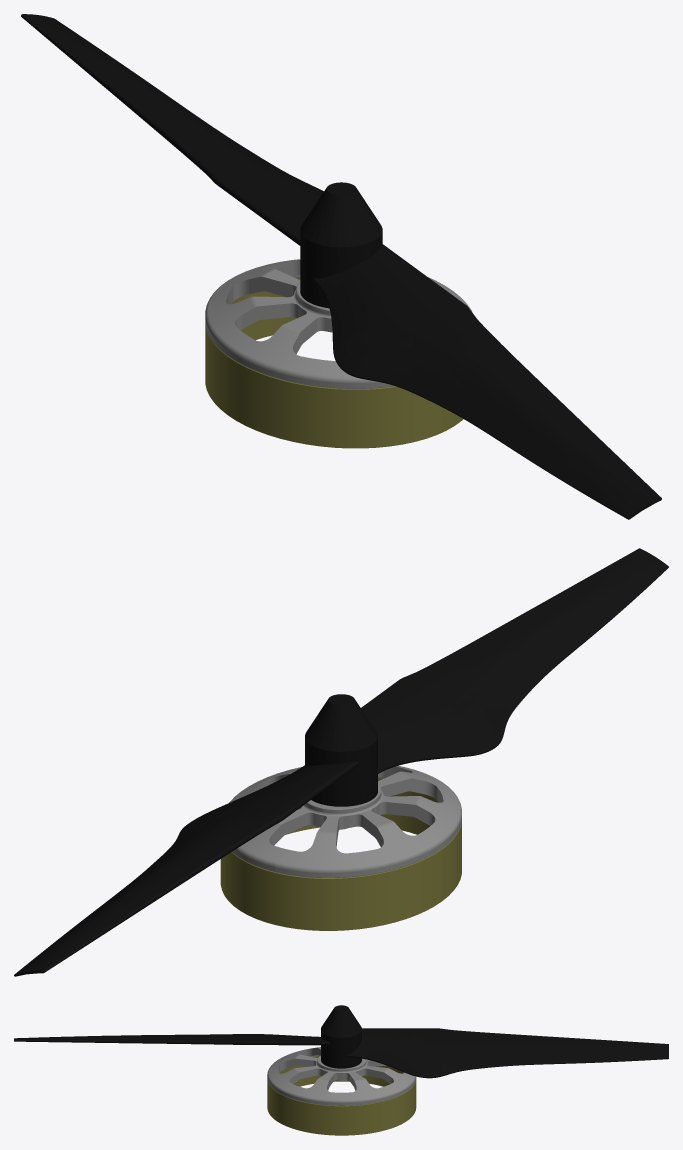
The model's file is prop_fr.dae.
3 views of the same model, one above another, from view 1: azimuth 30°, elevation 25°; view 2: azimuth 150°, elevation 25°; view 3: azimuth 270°, elevation 25° (orthographic). The views are drawn at different scales.
Parts seen in each view (by area): view 1: tmp_export_1345_prop_ccw; view 2: tmp_export_1345_prop_ccw; view 3: tmp_export_1345_prop_ccw.
Part boxes in pixels (x1,y1,x2,y2): tmp_export_1345_prop_ccw: (21, 14, 661, 519); tmp_export_1345_prop_ccw: (14, 548, 668, 976); tmp_export_1345_prop_ccw: (14, 1005, 668, 1135).
Size of the model in its own units: 0.0694 by 0.346 by 0.058.
